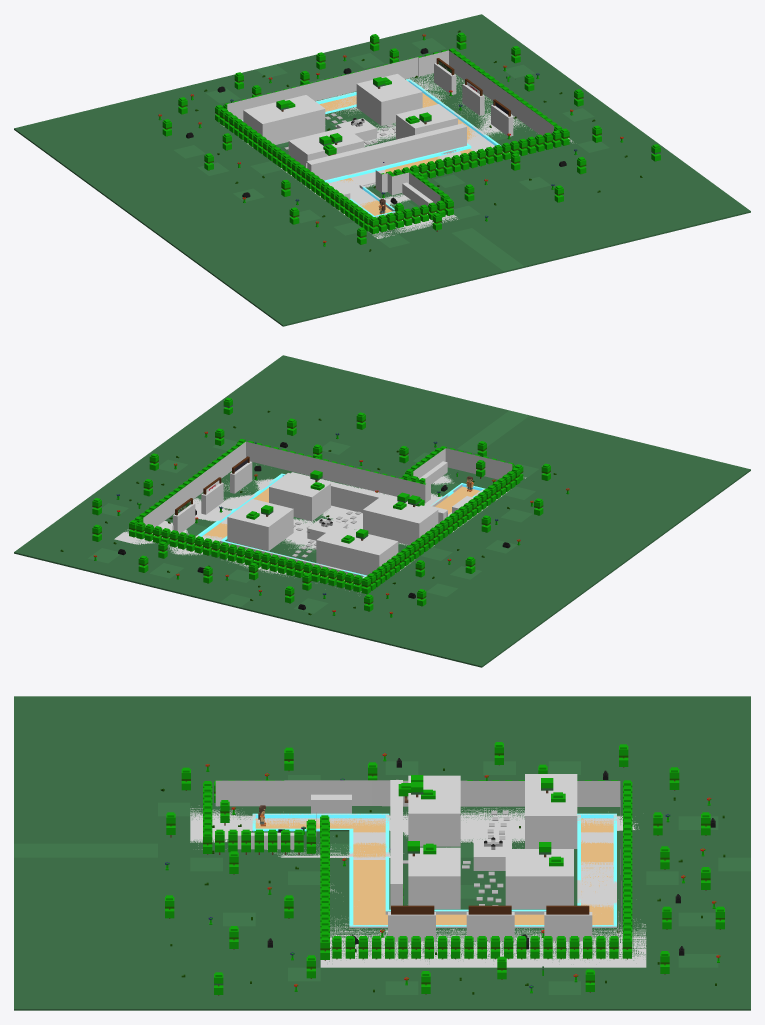
The picture shows the model from 3 angles, top to bottom: view 1: azimuth 30°, elevation 25°; view 2: azimuth 150°, elevation 25°; view 3: azimuth 270°, elevation 25°; orthographic projection. The views are drawn at different scales.
Parts seen in each view (by area): view 1: Plane.006, colider; view 2: Plane.006, colider; view 3: Plane.006, colider.
Part boxes in pixels (x1=…): Plane.006: x1=14, y1=14, x2=750, y2=326; colider: x1=222, y1=50, x2=573, y2=238; Plane.006: x1=14, y1=355, x2=750, y2=667; colider: x1=114, y1=441, x2=526, y2=591; Plane.006: x1=14, y1=696, x2=750, y2=1010; colider: x1=190, y1=774, x2=646, y2=967.
Bounding box in the file's own units: 505 × 35.65 × 503.
Materials: 34 (12 with a texture image).
